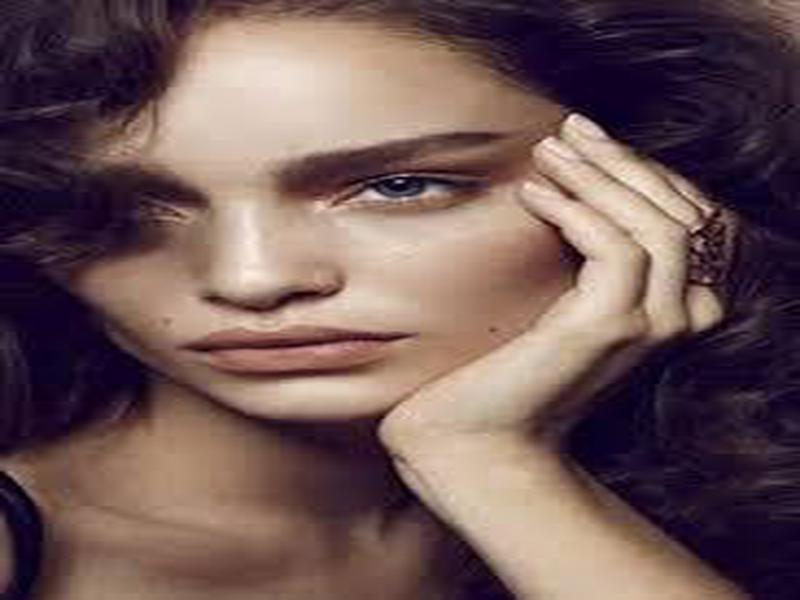without_mask: (50, 68, 595, 427)
